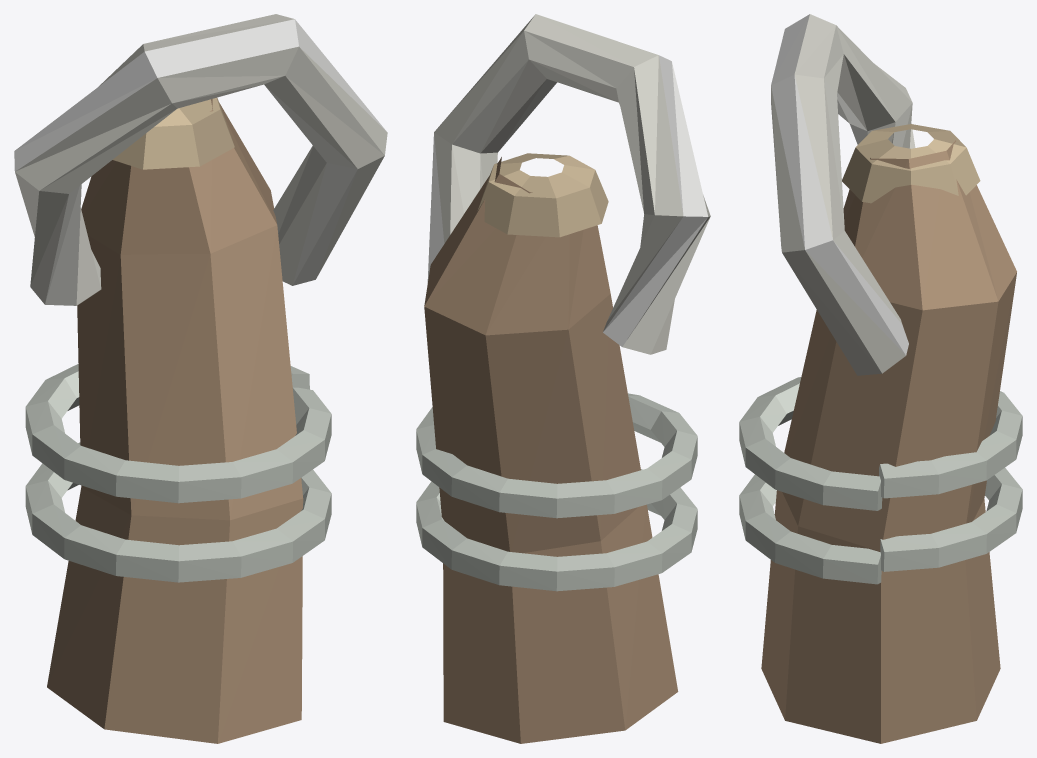
File: wooden_eyelet.glb
3 renders of one model, left to right at view 1: azimuth 30°, elevation 25°; view 2: azimuth 150°, elevation 25°; view 3: azimuth 270°, elevation 25°, orthographic. The views are drawn at different scales.
Visible parts, largest first — view 1: WoodPeg, SilkEyelet, PegBinding1, PegBinding0, PegEndGrain; view 2: WoodPeg, SilkEyelet, PegBinding1, PegBinding0, PegEndGrain; view 3: WoodPeg, SilkEyelet, PegBinding1, PegBinding0, PegEndGrain.
Boxes of the visible parts, bbox=[...] form: WoodPeg: bbox=[47, 99, 303, 743]; SilkEyelet: bbox=[14, 14, 387, 305]; PegBinding1: bbox=[25, 364, 331, 503]; PegBinding0: bbox=[25, 442, 331, 582]; PegEndGrain: bbox=[112, 97, 234, 169]; WoodPeg: bbox=[424, 157, 678, 743]; SilkEyelet: bbox=[427, 14, 710, 354]; PegBinding1: bbox=[416, 393, 697, 518]; PegBinding0: bbox=[416, 469, 697, 591]; PegEndGrain: bbox=[477, 153, 608, 237]; WoodPeg: bbox=[761, 140, 1016, 743]; SilkEyelet: bbox=[771, 14, 915, 375]; PegBinding1: bbox=[739, 377, 1022, 510]; PegBinding0: bbox=[739, 468, 1022, 584]; PegEndGrain: bbox=[842, 124, 980, 203].
Bounding box in the file's own units: 0.1533 × 0.3094 × 0.1223.
